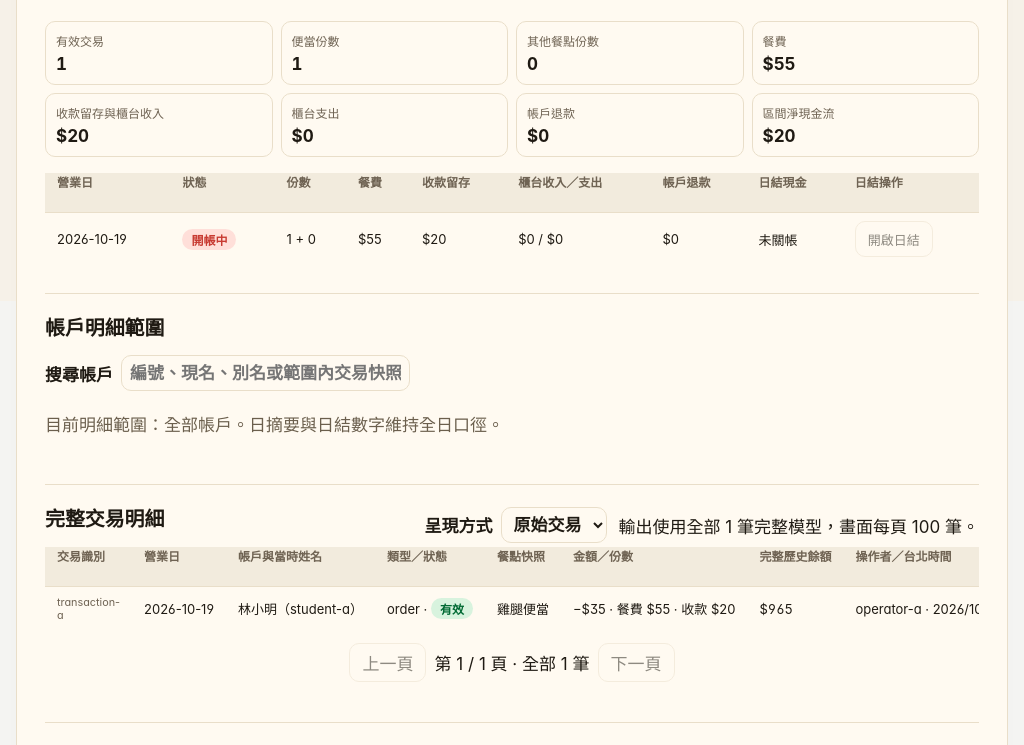
Test: CloudReportPage › access handover table (P13c2) › says plainly when the range has no handover and skips the table for a single-account scope
(page scrolled)
Step 1. Type "001" into the field labelled "搜尋帳戶" → coordinates (266, 373), box [121, 355, 410, 391]
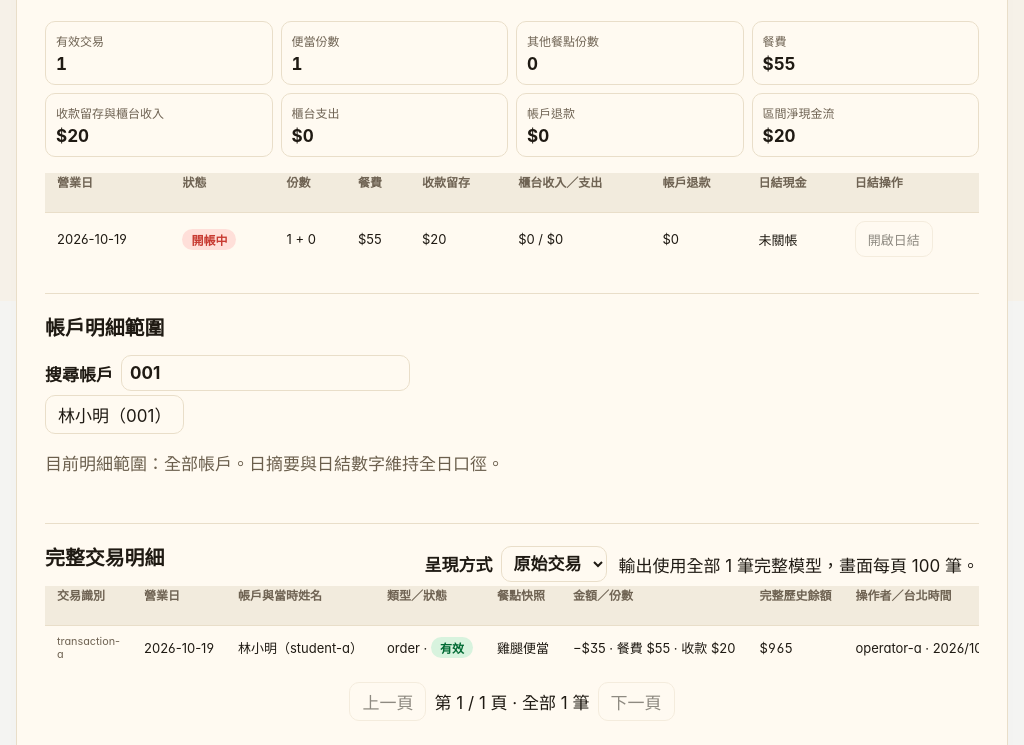
Step 2. Click the button with aria-label "選取 林小明（001）" → coordinates (115, 415), box [45, 395, 184, 434]
(page scrolled)
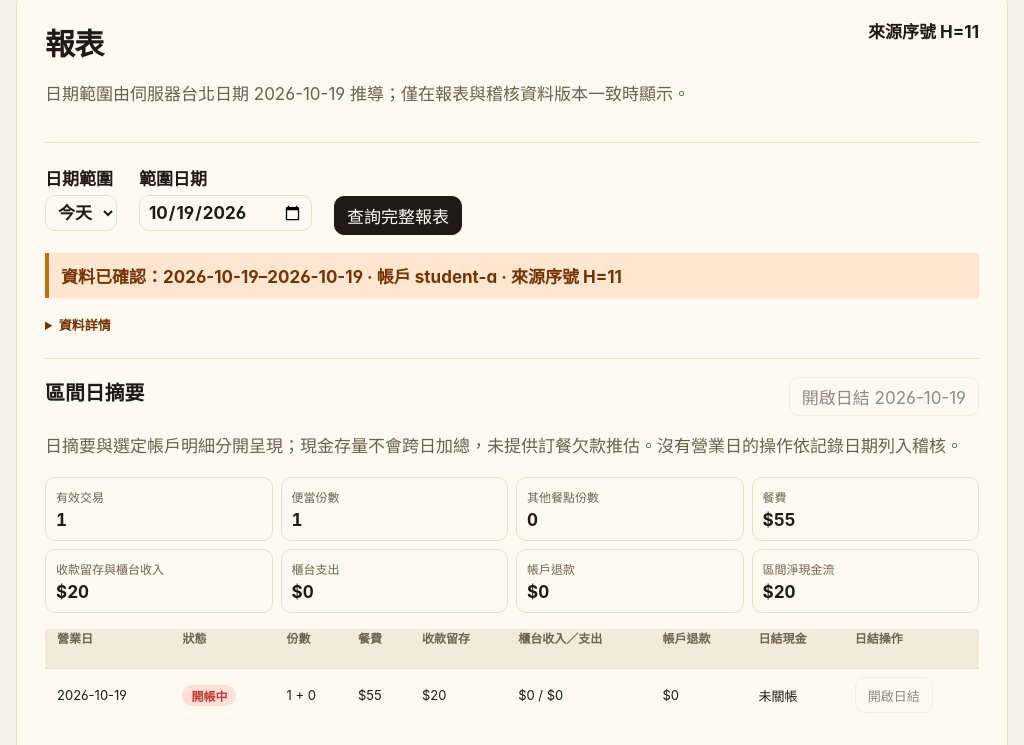
Check: the text "資料已確認：2026-10-19–2026-10-19 · 帳戶 student-a · 來源序號 H=11" is shown, box [45, 253, 979, 298]
